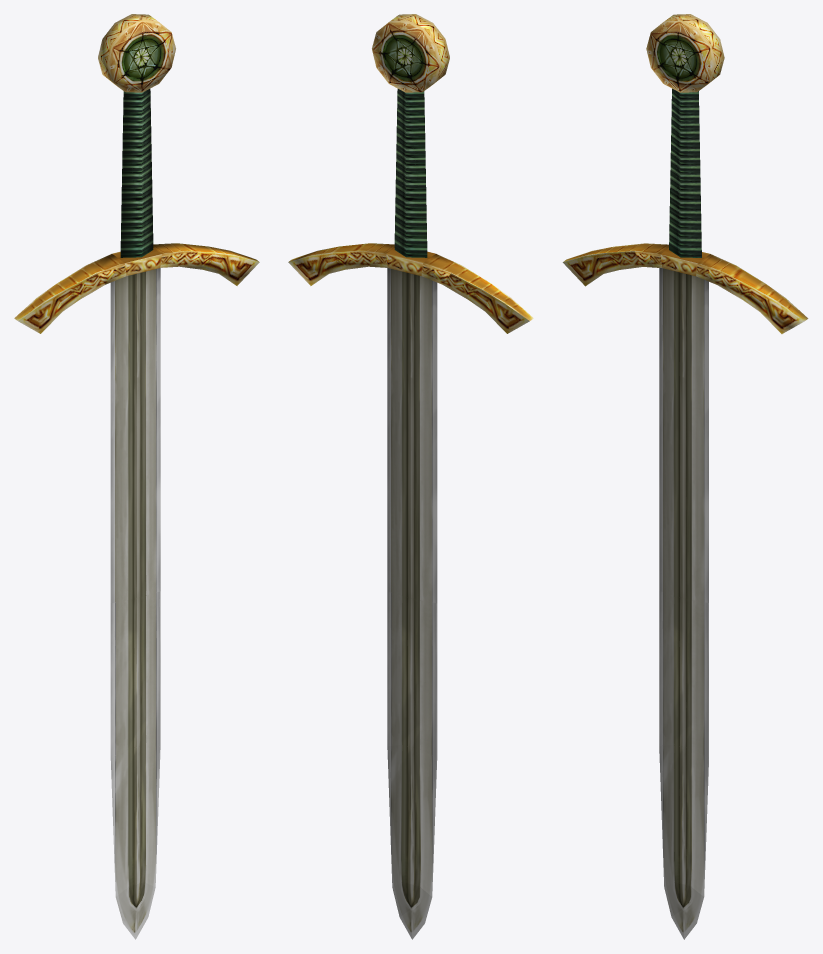
File: ancientSword.FBX
3 renders of one model, left to right at view 1: azimuth 30°, elevation 25°; view 2: azimuth 150°, elevation 25°; view 3: azimuth 330°, elevation 25°, orthographic.
Visible parts, largest first — view 1: ancientsword; view 2: ancientsword; view 3: ancientsword.
Boxes of the visible parts, x1,y1,x2,y2 form: ancientsword: (14, 14, 259, 939); ancientsword: (288, 14, 533, 939); ancientsword: (562, 14, 808, 939).
Size of the model in its own units: 19.32 by 70.33 by 1.83.
